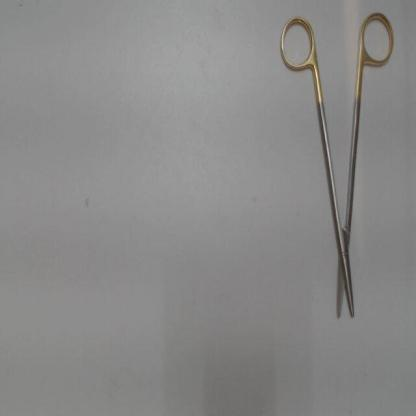7 Metzenbaum Scissors: (276, 7, 397, 325)
